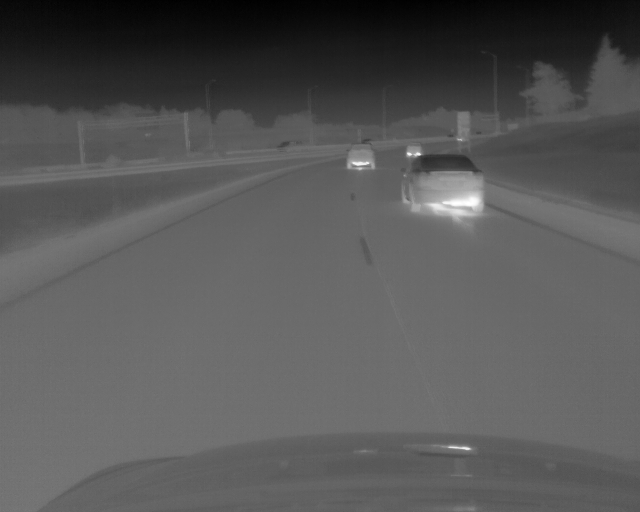car: (400, 153, 487, 213), (345, 143, 376, 170), (276, 139, 305, 153), (404, 140, 425, 158), (457, 136, 469, 142)
